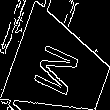M_E: (32, 38, 88, 100)
